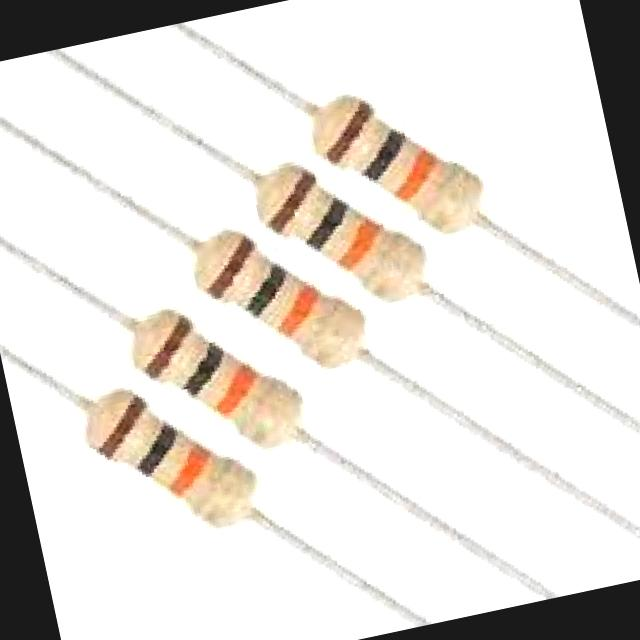Resistor: (192, 232, 361, 369), (132, 313, 299, 450), (256, 168, 428, 301), (89, 395, 252, 528), (316, 101, 479, 230)
black: (244, 264, 290, 318), (360, 129, 406, 183), (136, 422, 179, 479), (304, 200, 348, 253), (184, 344, 225, 394)
brown: (143, 314, 194, 379), (99, 393, 147, 460), (208, 233, 255, 299), (323, 101, 371, 162), (268, 172, 317, 231)
orange: (340, 218, 382, 273), (277, 284, 318, 338), (398, 153, 439, 203), (169, 448, 210, 497), (215, 364, 255, 413)
